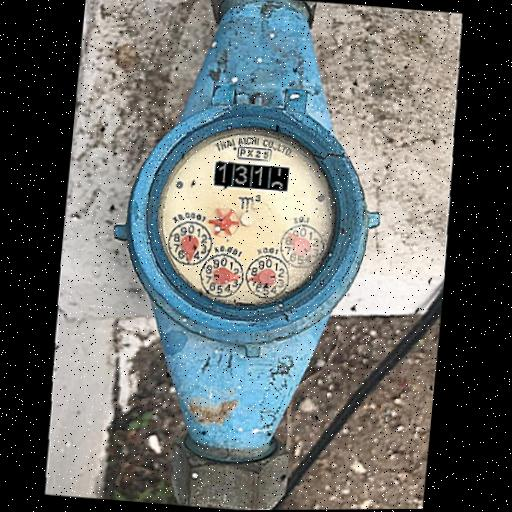1: (269, 166, 290, 192), (215, 162, 235, 187), (251, 165, 269, 189)
3: (233, 163, 252, 188)
border_water_meter_number: (213, 160, 290, 193)
